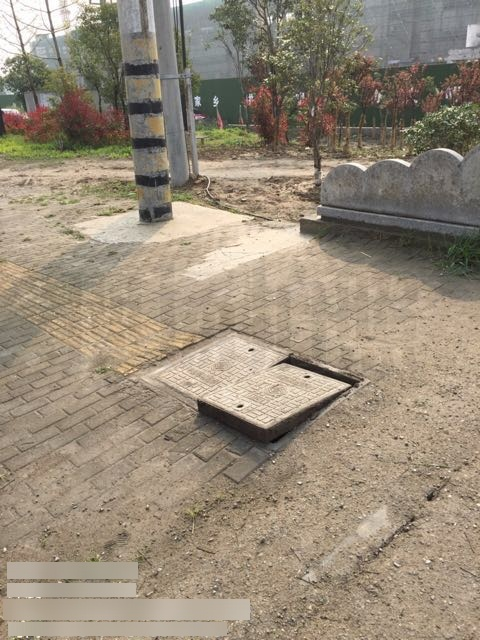well: (148, 328, 363, 447)
